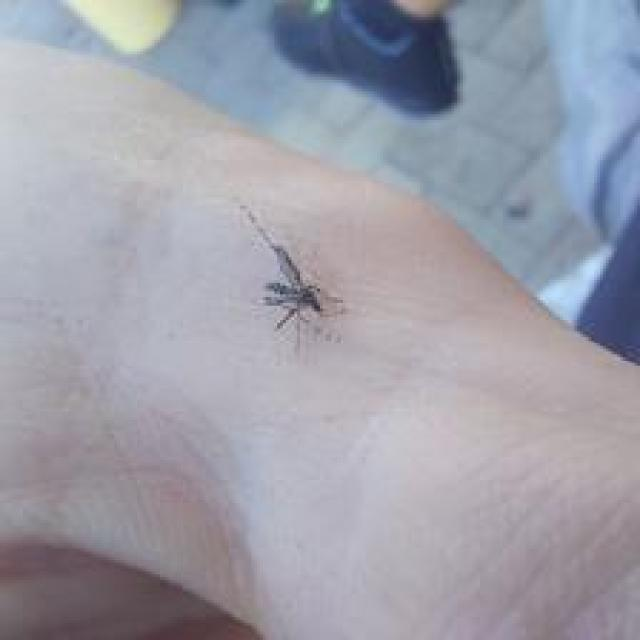Aedes albopictus: (239, 201, 347, 356)
